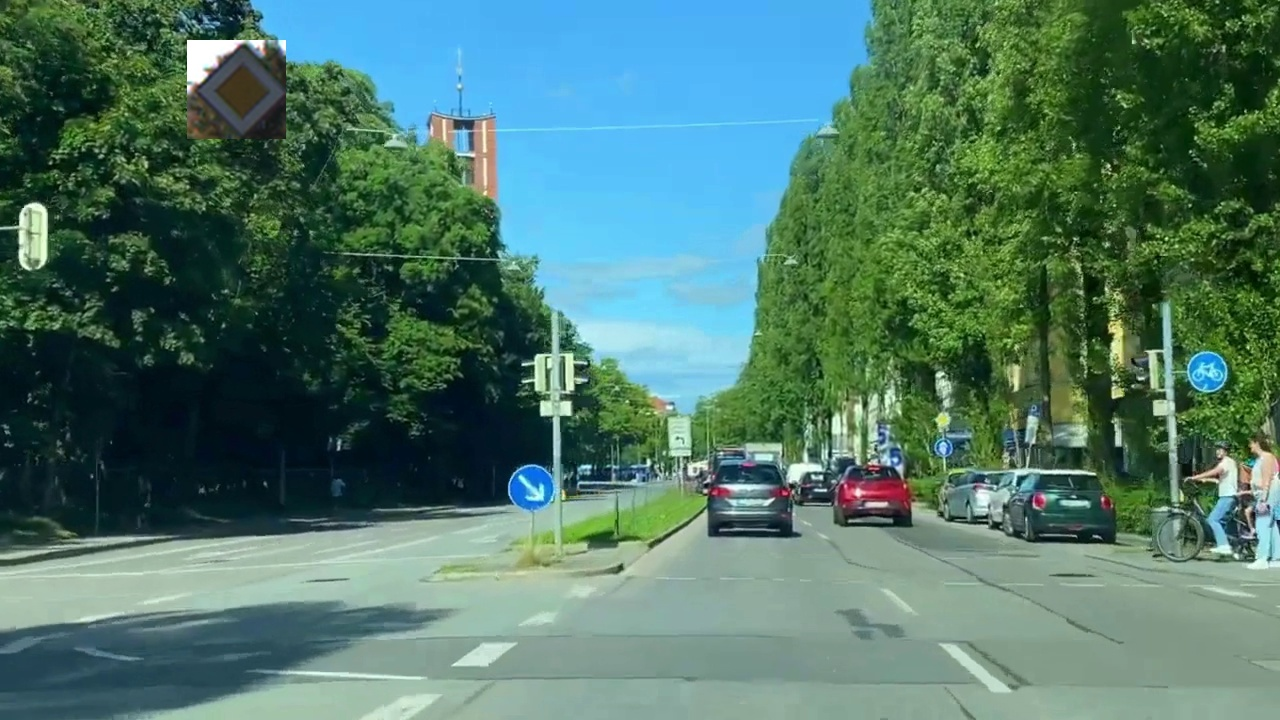Priority road: (187, 40, 286, 139)
